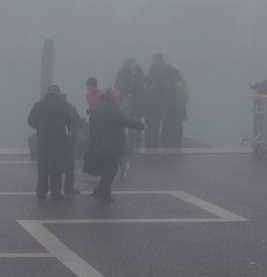person: (87, 88, 143, 202), (28, 85, 68, 202), (52, 91, 83, 198), (157, 62, 188, 149), (128, 64, 146, 148), (142, 76, 160, 146), (114, 57, 136, 92), (84, 76, 106, 110), (147, 52, 169, 74)
